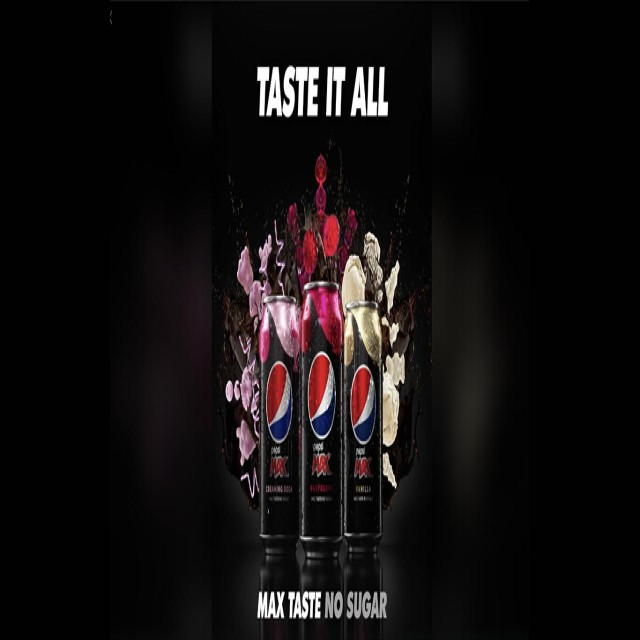pepsi: (307, 351, 336, 443), (266, 359, 294, 446), (349, 364, 376, 444)
